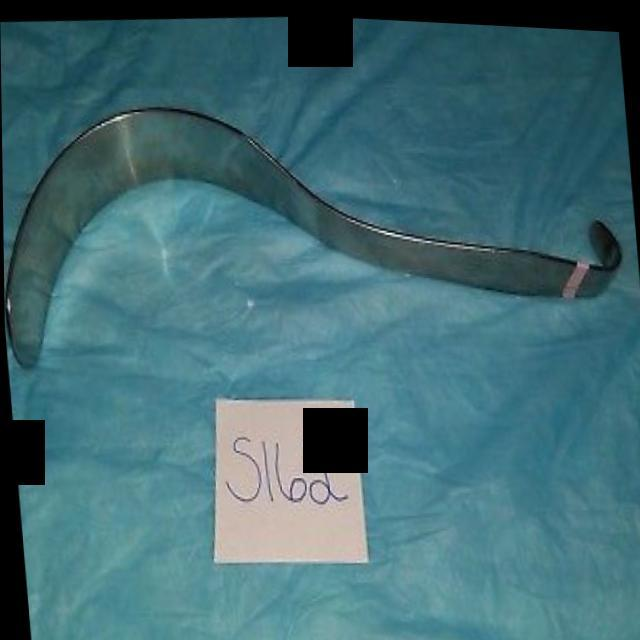Deaver Retractor: (1, 53, 636, 409)
